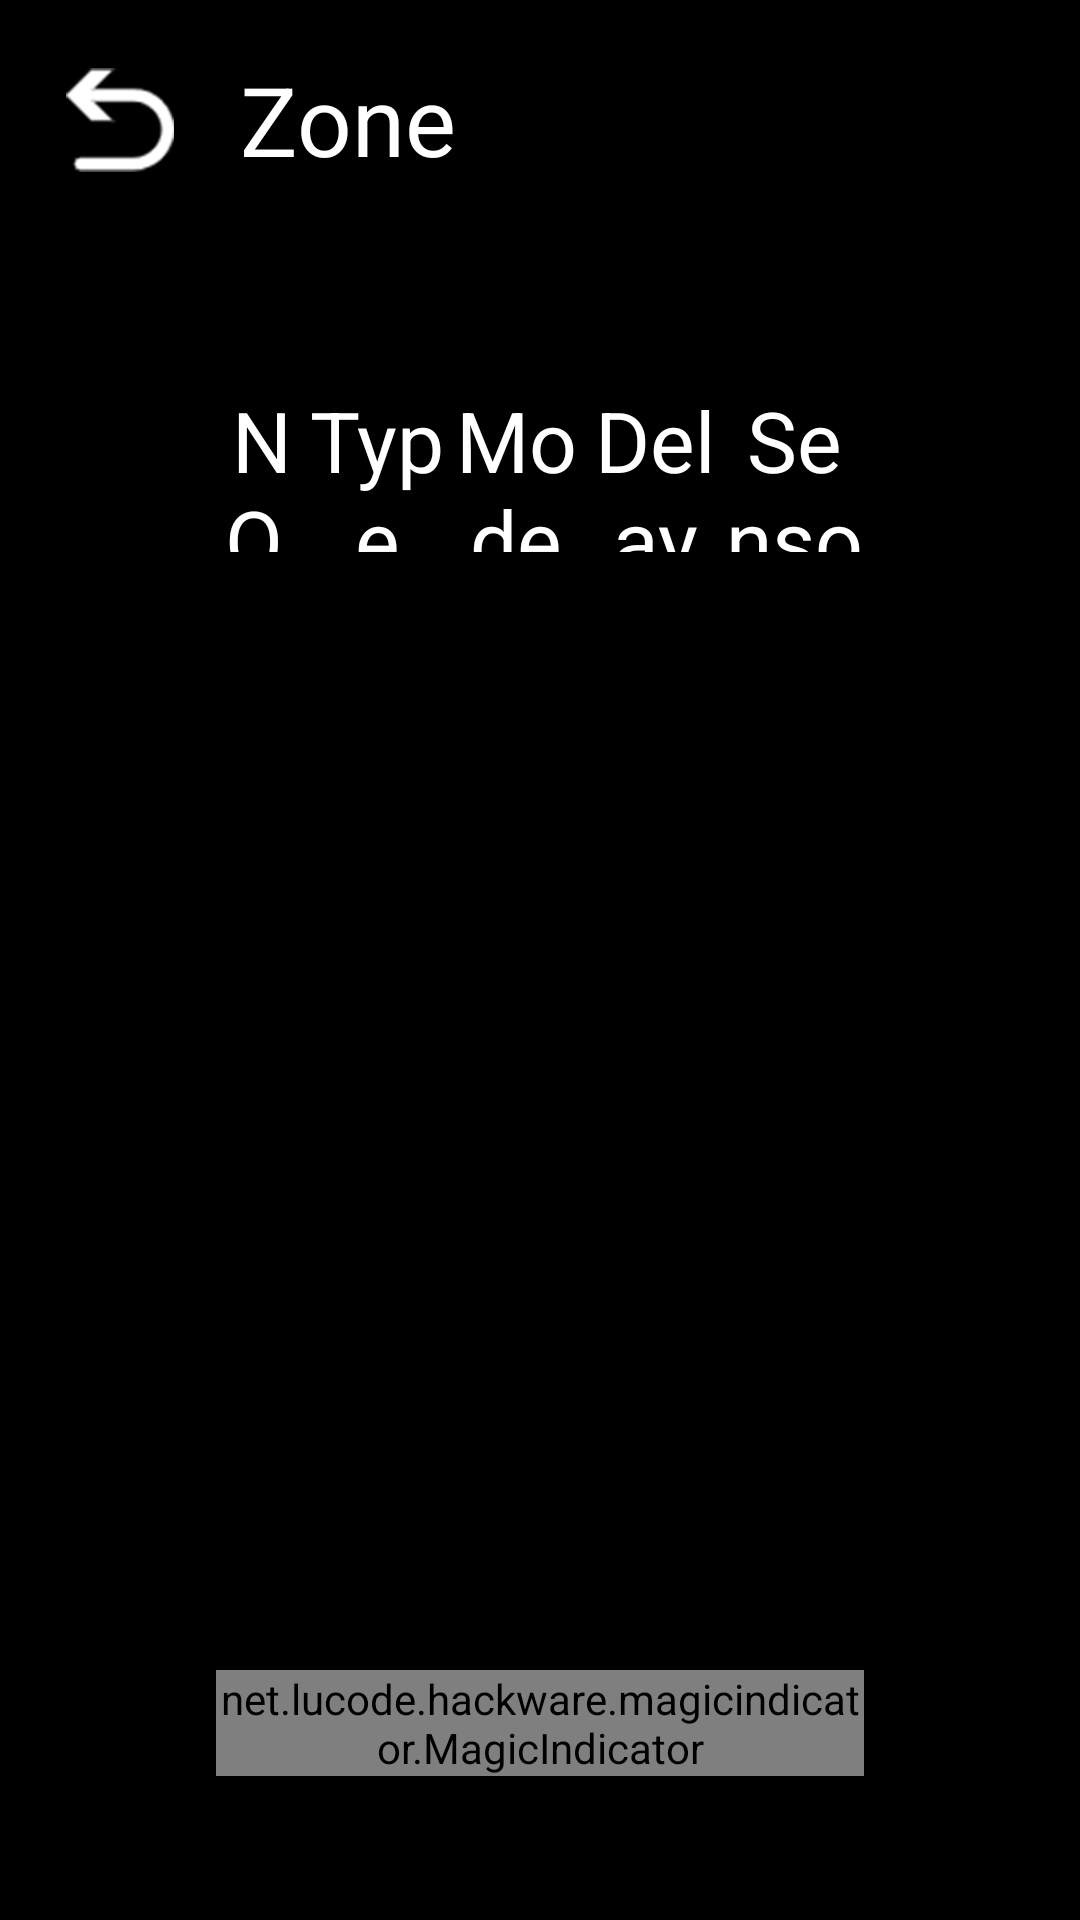

Icons on this 1080x1920 Android screen, each with its box as box=[x1, y1, x2, y2]:
back: box=[66, 68, 174, 172]
